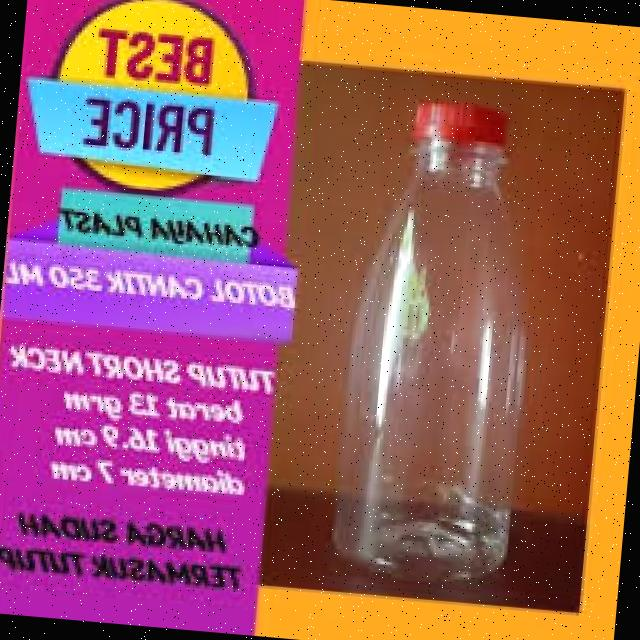bottle: (340, 89, 544, 576)
cap: (400, 95, 520, 153)
